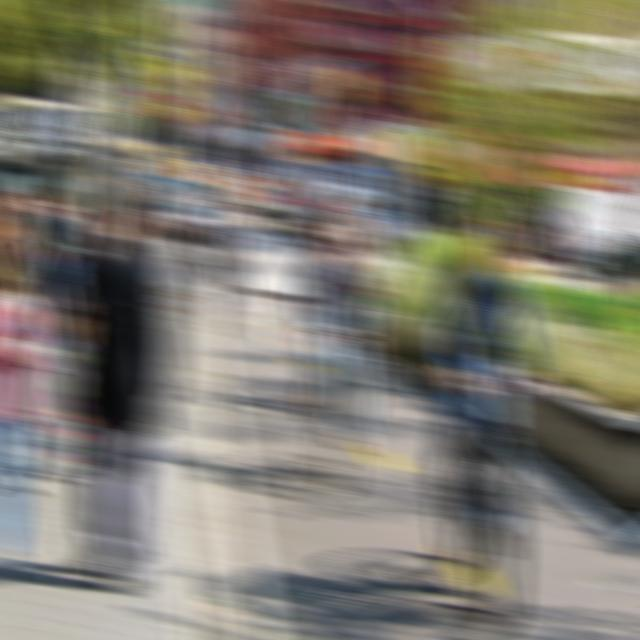Without Helmet: (465, 212, 519, 276), (321, 217, 364, 264)
